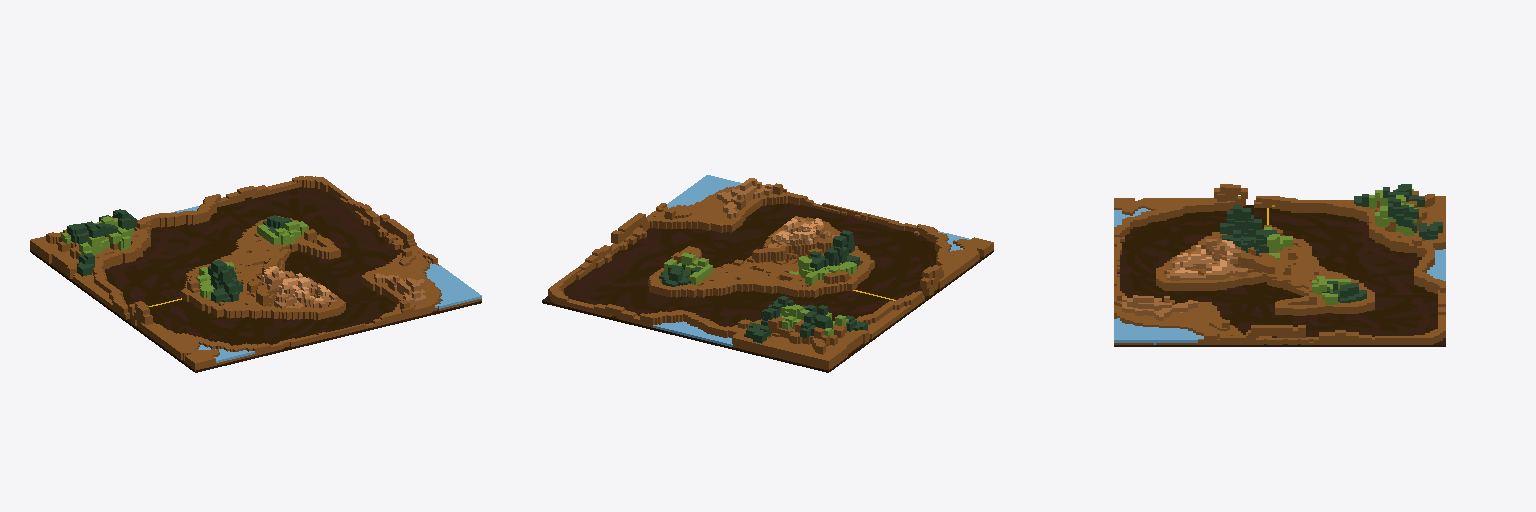
The picture shows the model from 3 angles: view 1: azimuth 30°, elevation 25°; view 2: azimuth 150°, elevation 25°; view 3: azimuth 270°, elevation 25°; orthographic projection.
Visible parts, largest first — view 1: canyon-road; view 2: canyon-road; view 3: canyon-road.
Boxes of the visible parts, box(x1,y1,x2,y2) form: canyon-road: box(30, 176, 481, 372); canyon-road: box(542, 175, 993, 372); canyon-road: box(1114, 184, 1445, 346).
Bounding box in the file's own units: 126 × 18 × 126.
1 materials, 1 textured.